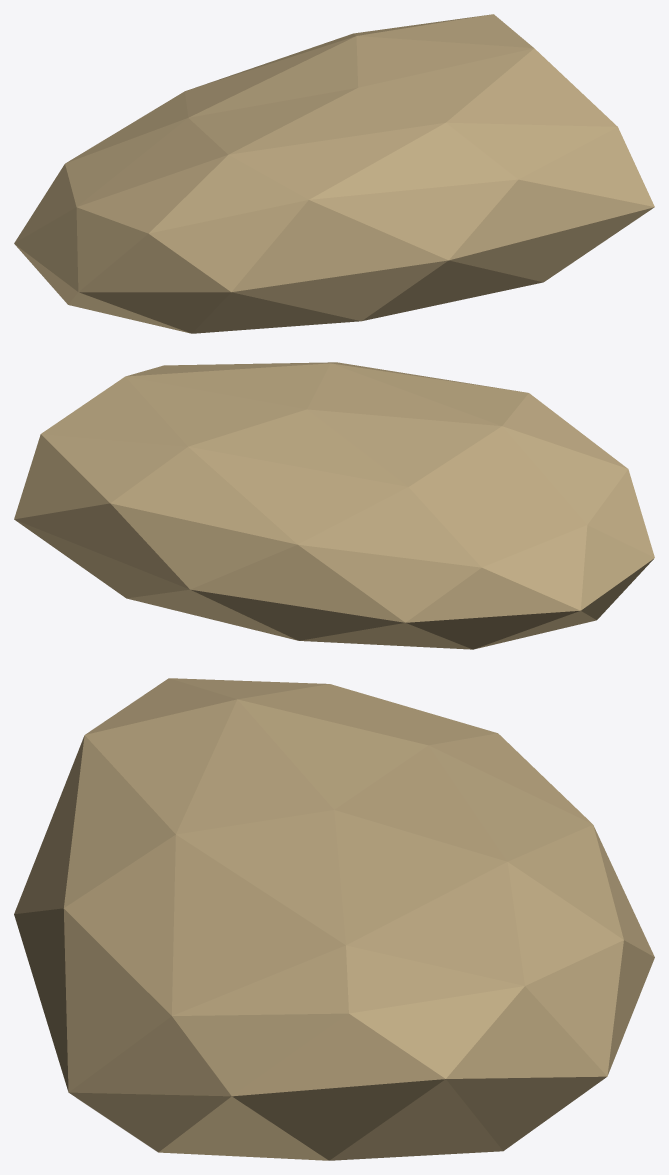
The picture shows the model from 3 angles, top to bottom: view 1: azimuth 30°, elevation 25°; view 2: azimuth 150°, elevation 25°; view 3: azimuth 270°, elevation 25°; orthographic projection. The views are drawn at different scales.
Visible parts, largest first — view 1: Bush_02__147_; view 2: Bush_02__147_; view 3: Bush_02__147_.
Part boxes in pixels (x1,y1,x2,y2): Bush_02__147_: (14,14,654,333); Bush_02__147_: (14,362,654,649); Bush_02__147_: (14,678,654,1160).
Size of the model in its own units: 339 by 96.92 by 254.
